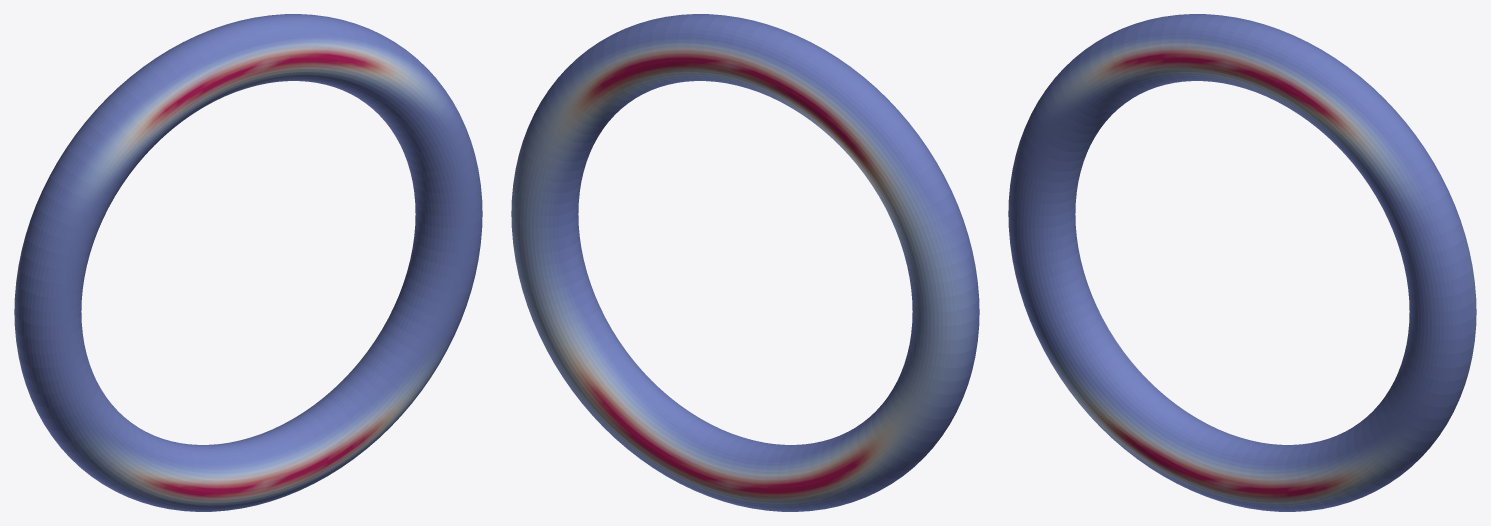
3 renders of one model, left to right at view 1: azimuth 30°, elevation 25°; view 2: azimuth 150°, elevation 25°; view 3: azimuth 330°, elevation 25°, orthographic.
Visible parts, largest first — view 1: world; view 2: world; view 3: world.
Part boxes in pixels (x1,y1,x2,y2): world: (14, 14, 482, 511); world: (511, 14, 979, 511); world: (1008, 14, 1476, 511).
Bounding box in the file's own units: 22.13 × 22.13 × 2.79.
